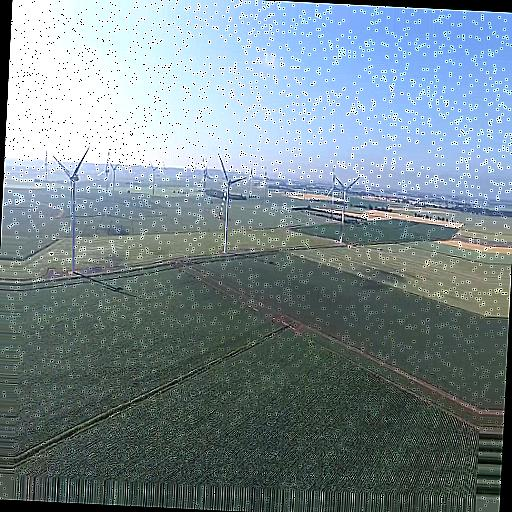wind turbine: (53, 145, 92, 277), (215, 150, 248, 255), (332, 170, 362, 245)
